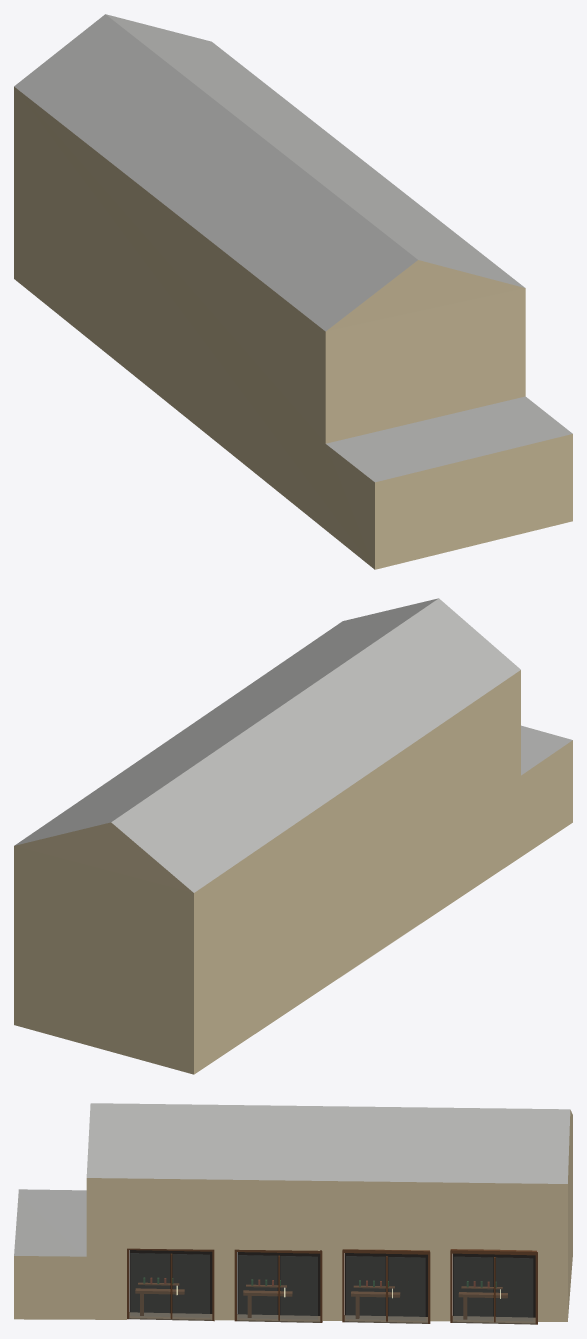
Rendered from d12-nonbei-w138670870-neutral.glb.
3 renders of one model, top to bottom at view 1: azimuth 30°, elevation 25°; view 2: azimuth 150°, elevation 25°; view 3: azimuth 270°, elevation 25°, orthographic. The views are drawn at different scales.
Visible parts, largest first — view 1: SOURCE_shell_PLATEAU_derived.001; view 2: SOURCE_shell_PLATEAU_derived.001; view 3: SOURCE_shell_PLATEAU_derived.001, glass_panel.
Boxes of the visible parts, x1=… form: SOURCE_shell_PLATEAU_derived.001: x1=14, y1=14, x2=572, y2=569; SOURCE_shell_PLATEAU_derived.001: x1=14, y1=598, x2=572, y2=1074; SOURCE_shell_PLATEAU_derived.001: x1=14, y1=1103, x2=572, y2=1324; glass_panel: x1=130, y1=1253, x2=532, y2=1321.
Bounding box in the file's own units: 5.78 × 6.35 × 17.63.
2 materials, 1 textured.
